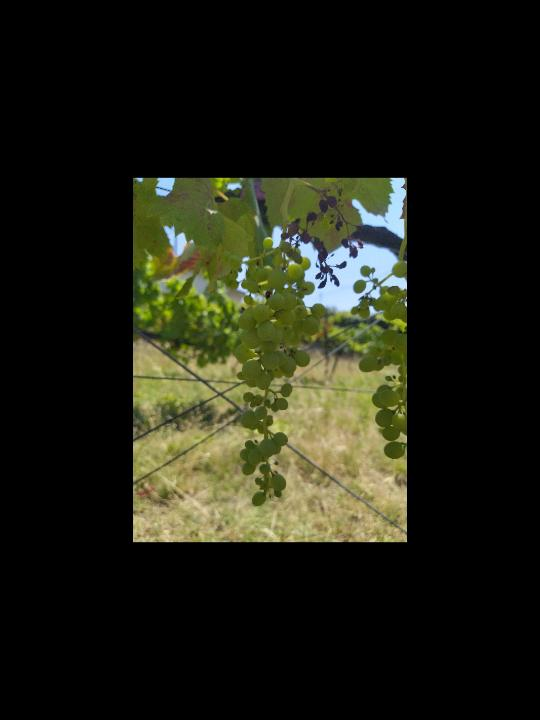grape: (221, 236, 326, 509), (279, 183, 369, 289)
